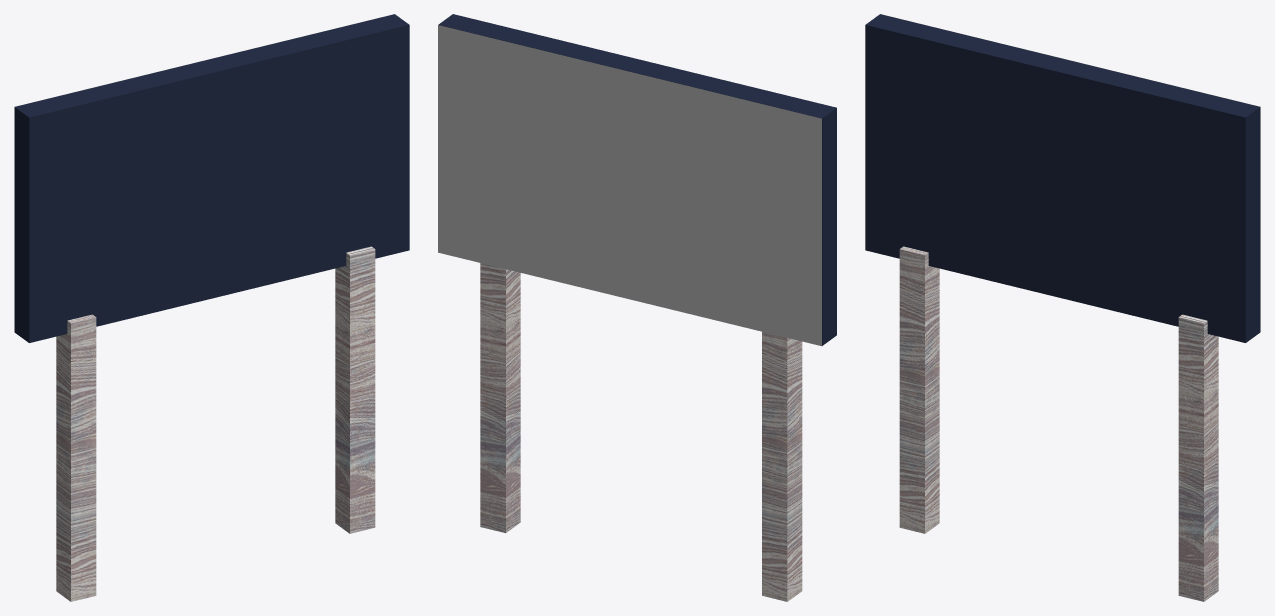
File: round_timer_board.obj
3 renders of one model, left to right at view 1: azimuth 30°, elevation 25°; view 2: azimuth 150°, elevation 25°; view 3: azimuth 330°, elevation 25°, orthographic.
Visible parts, largest first — view 1: Board, PostL, PostR; view 2: Board_Face, PostR, PostL, Board; view 3: Board, PostR, PostL.
Boxes of the visible parts, bbox=[...] form: Board: bbox=[14, 14, 409, 342]; PostL: bbox=[56, 314, 96, 601]; PostR: bbox=[335, 246, 375, 533]; Board_Face: bbox=[438, 25, 821, 346]; PostR: bbox=[480, 263, 520, 533]; PostL: bbox=[762, 331, 802, 601]; Board: bbox=[438, 14, 836, 345]; Board: bbox=[865, 14, 1260, 342]; PostR: bbox=[1178, 314, 1218, 601]; PostL: bbox=[899, 246, 939, 533].
Bounding box in the file's own units: 6 × 7.4 × 0.505.
